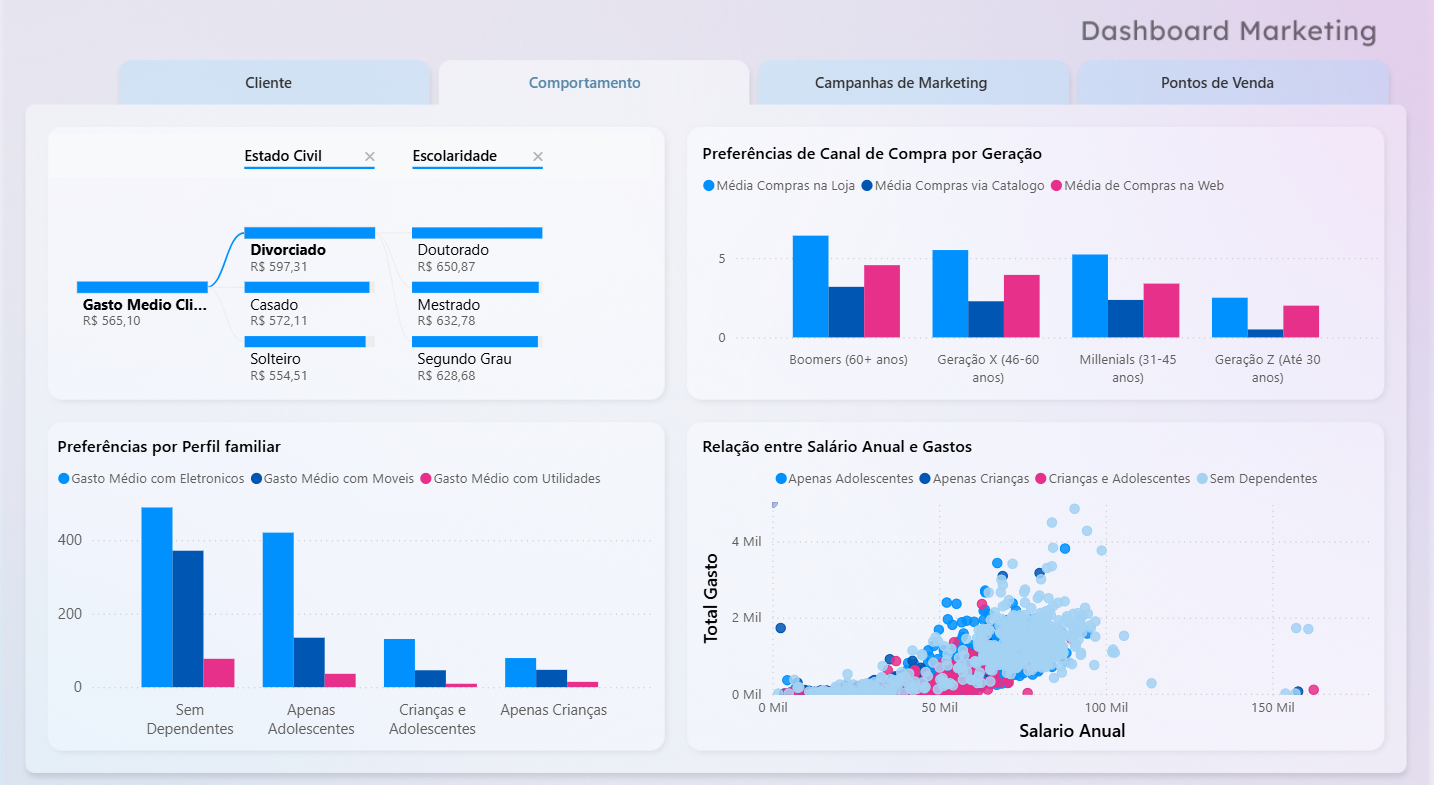

This screenshot's page, from the dashboard's own definition file:
{"tool":"powerbi","page":{"name":"Comportamento","canvas":[1280,720],"ordinal":1},"visuals":[{"type":"scatterChart","title":"Relação entre Salário Anual e Gastos","fields":{"X":["DadosMarketing.Salario Anual"],"Y":["DadosMarketing.Total Gasto"],"Series":["DadosMarketing.Perfil Consumidor"]},"box":[615.9,384.2,645.5,299.9],"z":0},{"type":"decompositionTreeVisual","fields":{"Analyze":["DadosMarketing.Gasto Medio Cliente"],"ExplainBy":["DadosMarketing.Estado Civil","DadosMarketing.Escolaridade"]},"box":[29.9,114.3,564,253],"z":1000},{"type":"clusteredColumnChart","title":"Preferências por Perfil familiar","fields":{"Category":["DadosMarketing.Perfil Consumidor"],"Y":["Avg(DadosMarketing.Gasto com Eletronicos)","Avg(DadosMarketing.Gasto com Moveis)","Avg(DadosMarketing.Gasto com Utilidades)"]},"box":[36.8,384.2,556.6,299],"z":2000},{"type":"clusteredColumnChart","title":"Preferências de Canal de Compra por Geração","fields":{"Category":["DadosMarketing.Geração"],"Y":["Avg(DadosMarketing.Numero de Compras na Loja)","Avg(DadosMarketing.Numero de Compras via Catalogo)","Avg(DadosMarketing.Numero de Compras na Web)"]},"box":[615.9,121.2,632,246],"z":3000},{"type":"pageNavigator","box":[104.1,58.4,1143.7,42.2],"z":4000}]}

Visuals, with their boxes in screenshot pixels (x1, y1, x2, y2), scaled from the page's 1280x720 canvas onto the 1434x785 screenshot:
"Relação entre Salário Anual e Gastos" scatterChart: (690,419,1413,746)
decompositionTreeVisual - DadosMarketing.Gasto Medio Cliente x DadosMarketing.Estado Civil: (33,125,665,400)
"Preferências por Perfil familiar" clusteredColumnChart: (41,419,665,745)
"Preferências de Canal de Compra por Geração" clusteredColumnChart: (690,132,1398,400)
pageNavigator: (117,64,1398,110)
